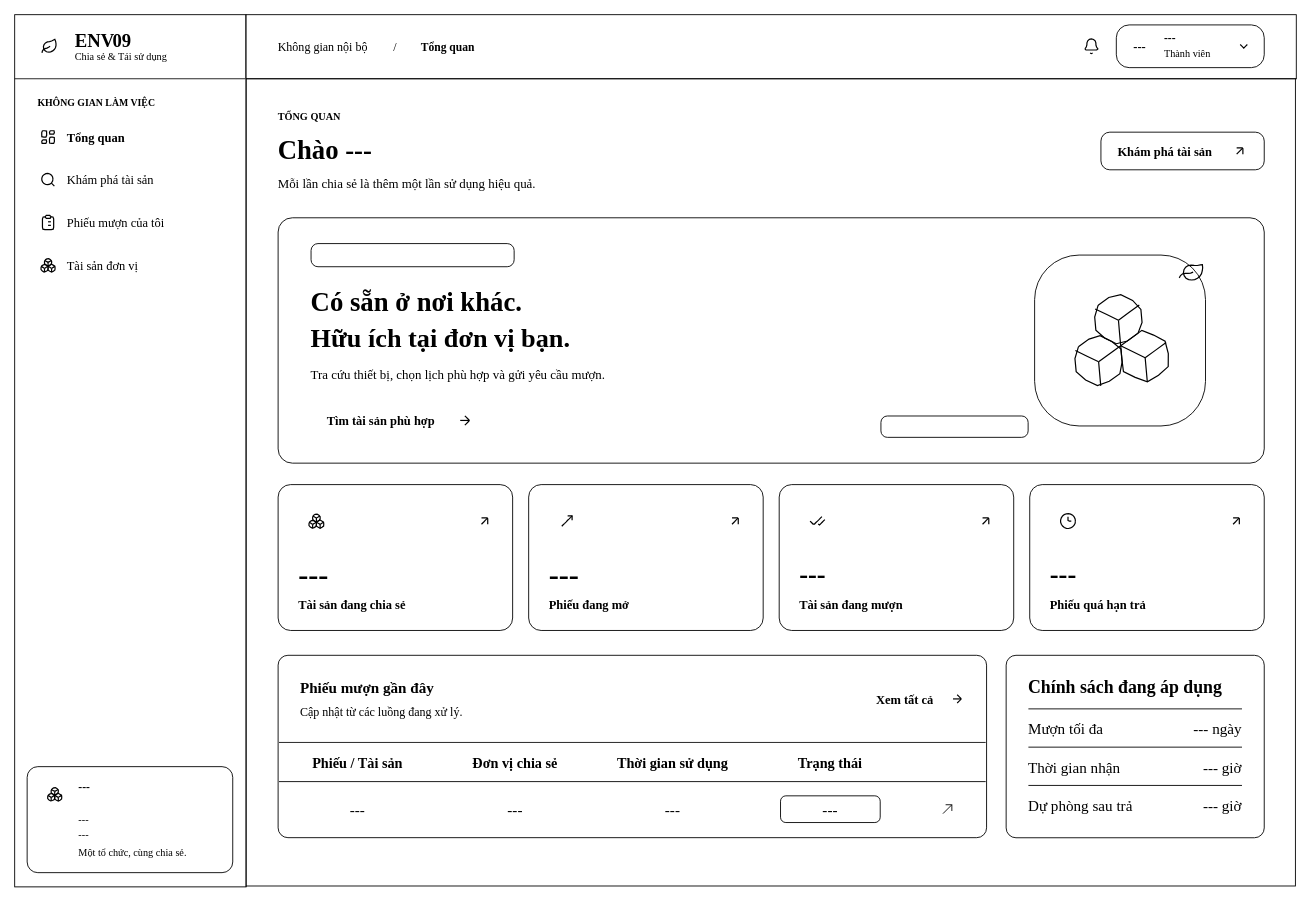
This 1311x902 diagram has some shape labels left out. Here are the shapes that lost their labels. From the top down, the box of each, then its label:
(310, 243, 514, 267): KẾT NỐI NGUỒN LỰC NỘI BỘ
(880, 415, 1028, 437): CHIA SẺ ĐỂ TIẾP NỐI
